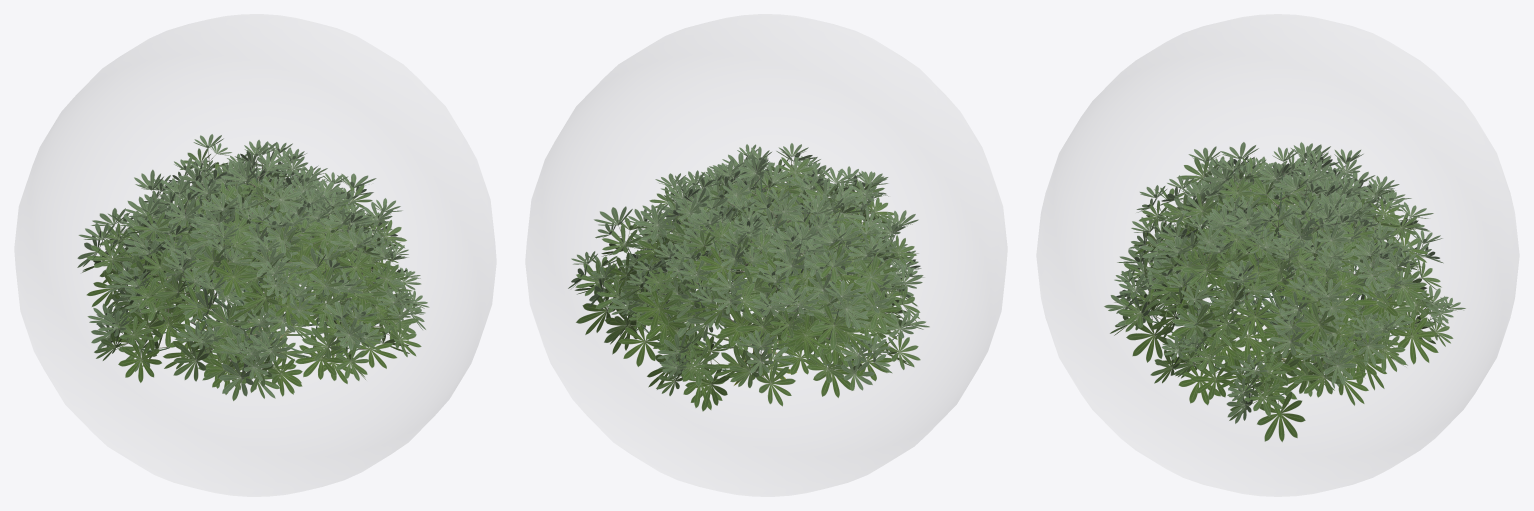
Rendered from bush ball.glb.
3 views of the same model, side by side, from view 1: azimuth 30°, elevation 25°; view 2: azimuth 150°, elevation 25°; view 3: azimuth 270°, elevation 25° (orthographic).
Parts seen in each view (by area): view 1: Sphere, Lupinus_arboreus_HD_Lupin arb lf stk 1_0.001; view 2: Sphere, Lupinus_arboreus_HD_Lupin arb lf stk 1_0.001; view 3: Sphere, Lupinus_arboreus_HD_Lupin arb lf stk 1_0.001.
Boxes of the visible parts, x1,y1,x2,y2 form: Sphere: [15, 14, 495, 496]; Lupinus_arboreus_HD_Lupin arb lf stk 1_0.001: [77, 134, 429, 400]; Sphere: [526, 14, 1006, 496]; Lupinus_arboreus_HD_Lupin arb lf stk 1_0.001: [568, 143, 929, 411]; Sphere: [1037, 14, 1518, 496]; Lupinus_arboreus_HD_Lupin arb lf stk 1_0.001: [1104, 142, 1465, 442].
Bounding box in the file's own units: 2.02 × 2.02 × 2.02.
Materials: 14 (13 with a texture image).
